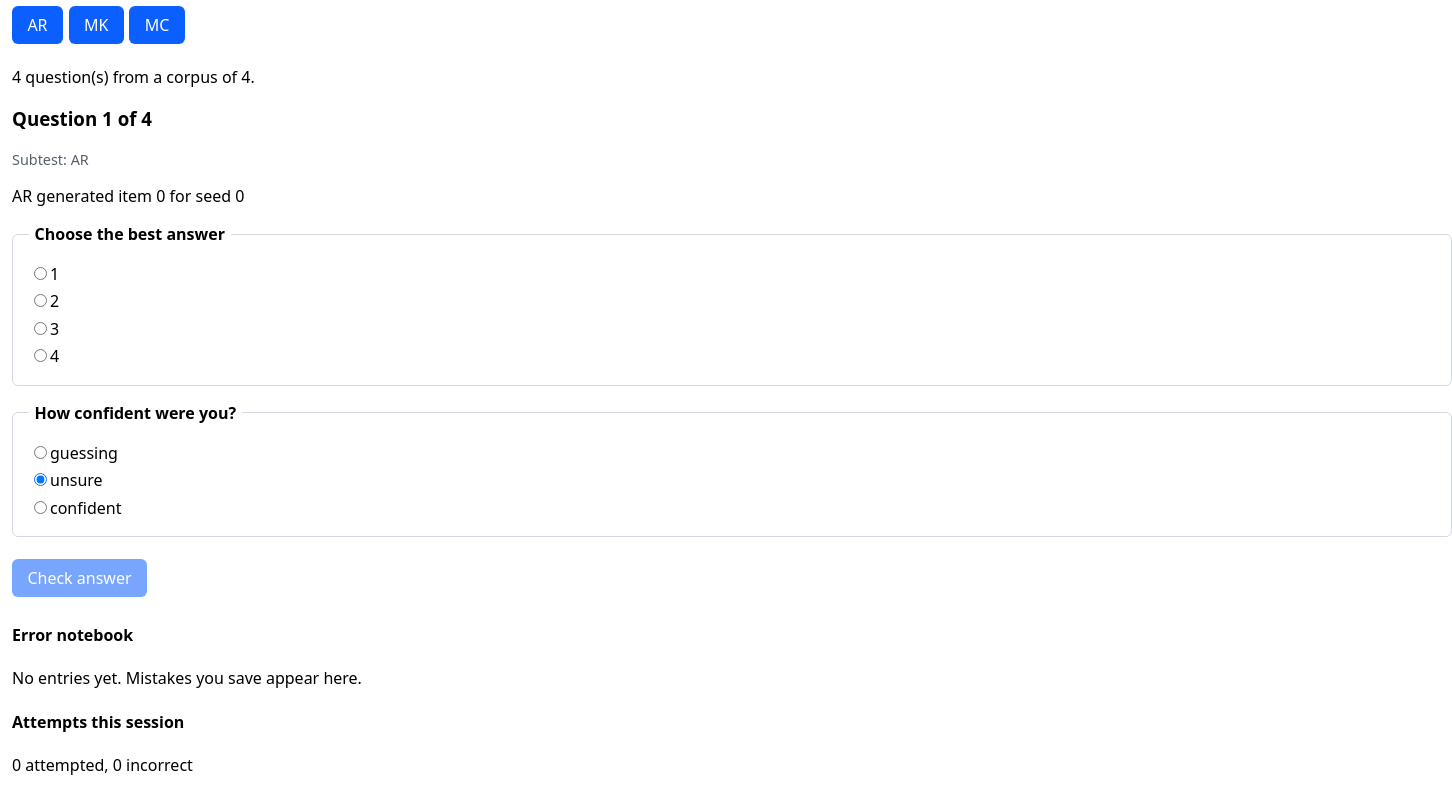
Test: PracticeContentView › prepares the chosen subtest when the learner asks
Click the button "MK": (96, 25) left=69, top=6, right=124, bottom=44
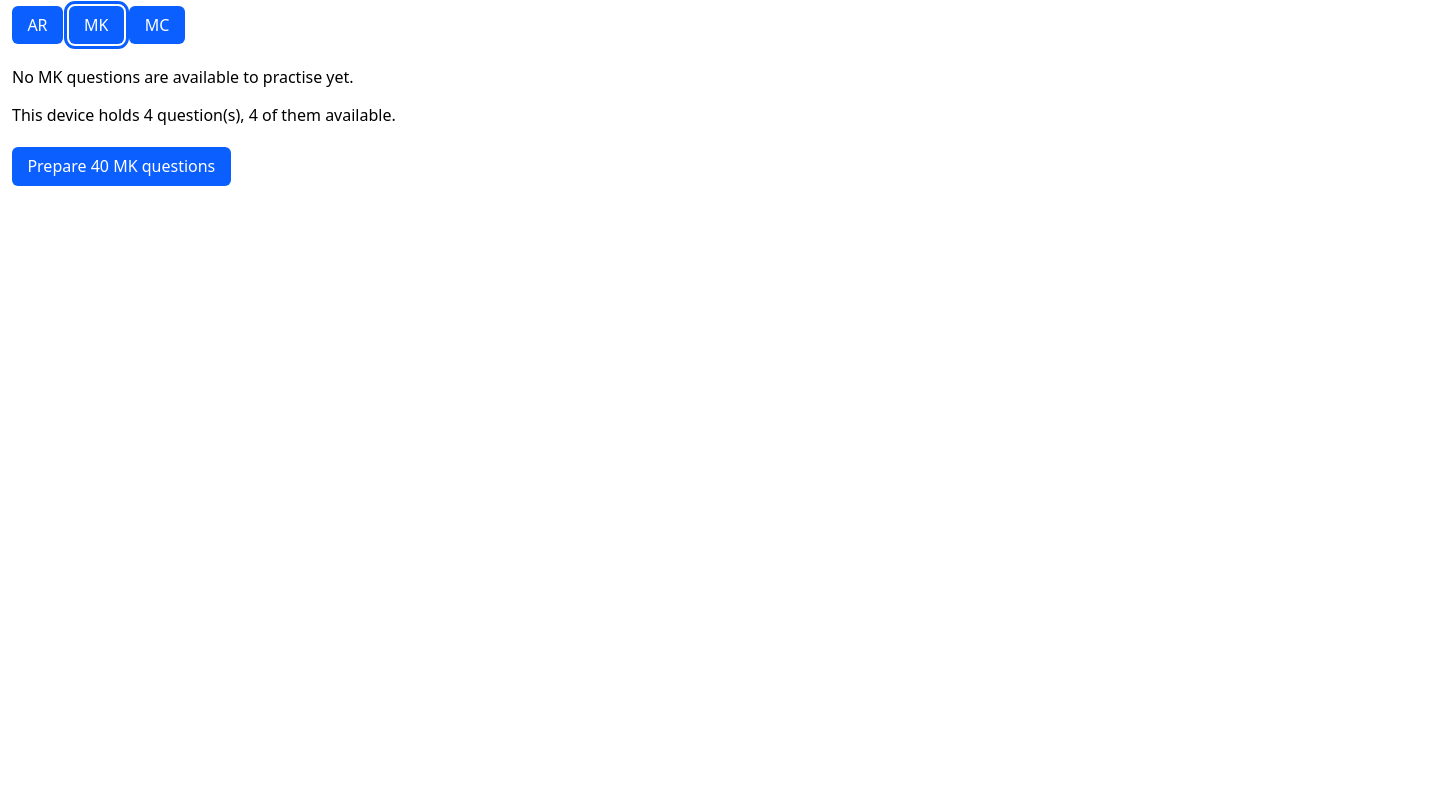
Now the element with test id "practice-empty" is shown, box left=12, top=66, right=396, bottom=186
Click the button "Prepare 40 MK questions": (121, 166) left=12, top=147, right=231, bottom=186
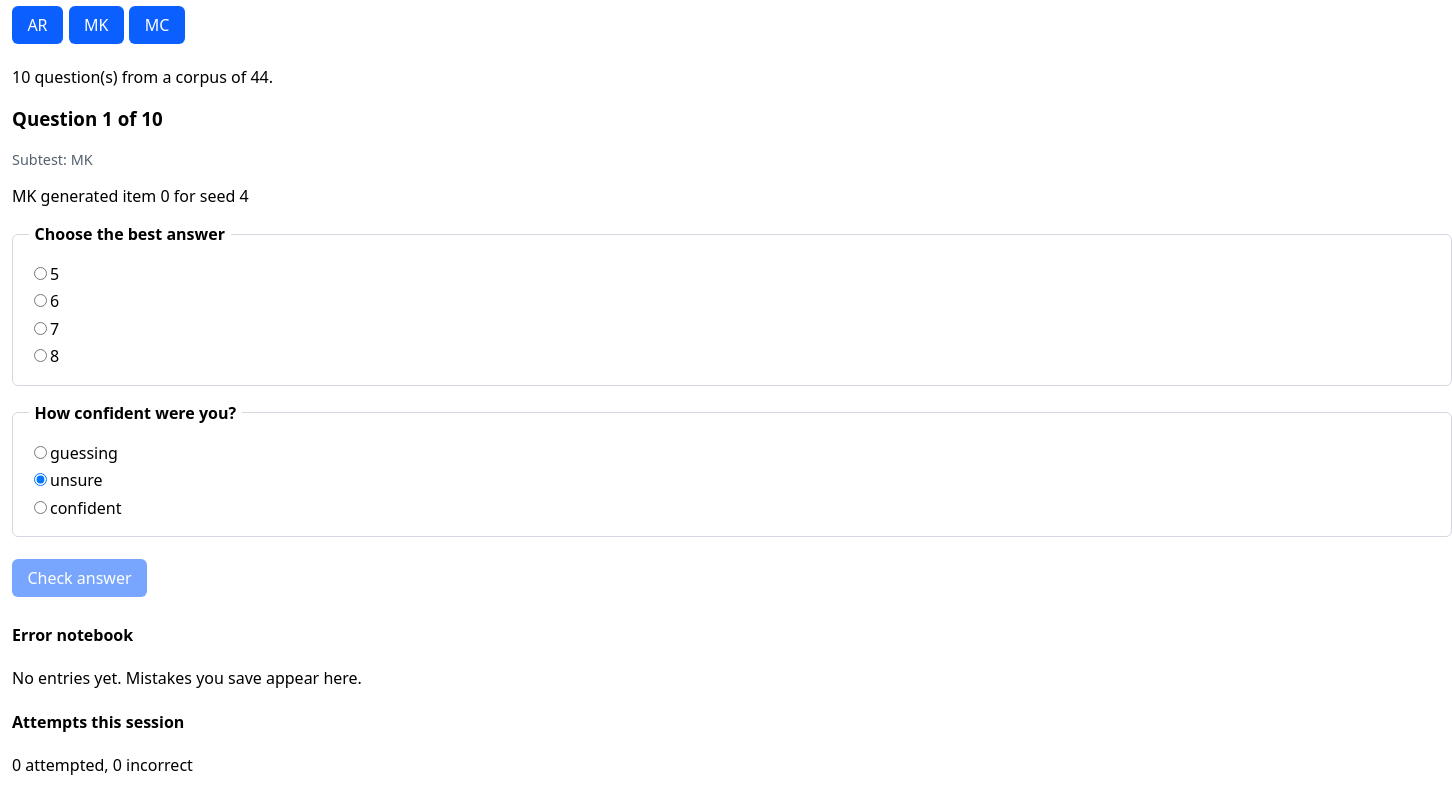
Now the text "MK generated item 0 for seed 4" is shown, box left=12, top=185, right=249, bottom=207
Now the text "Subtest: MK" is shown, box left=12, top=150, right=93, bottom=169
